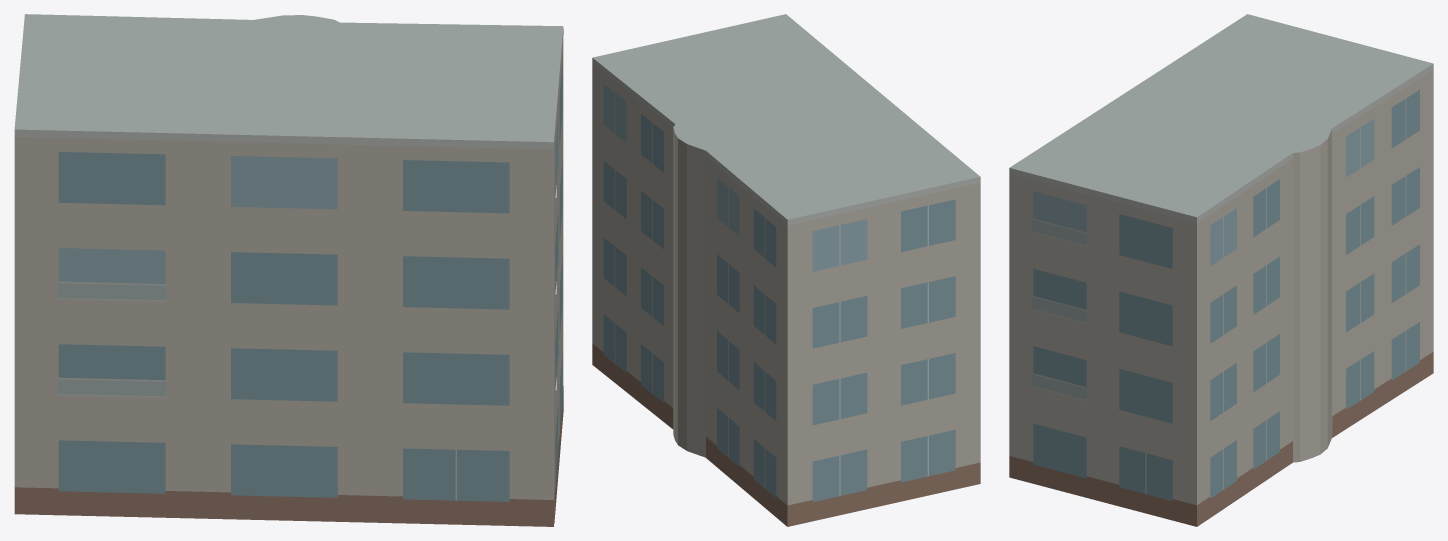
Rendered from survey-upis-33013358.glb.
3 views of the same model, side by side, from view 1: azimuth 30°, elevation 25°; view 2: azimuth 150°, elevation 25°; view 3: azimuth 270°, elevation 25° (orthographic). The views are drawn at different scales.
Parts seen in each view (by area): view 1: survey-upis-33013358.tmp; view 2: survey-upis-33013358.tmp; view 3: survey-upis-33013358.tmp.
Boxes of the visible parts, x1,y1,x2,y2 form: survey-upis-33013358.tmp: (14,14,563,526); survey-upis-33013358.tmp: (592,14,980,526); survey-upis-33013358.tmp: (1009,14,1433,526).
Bounding box in the file's own units: 18.04 × 12.8 × 15.91.
